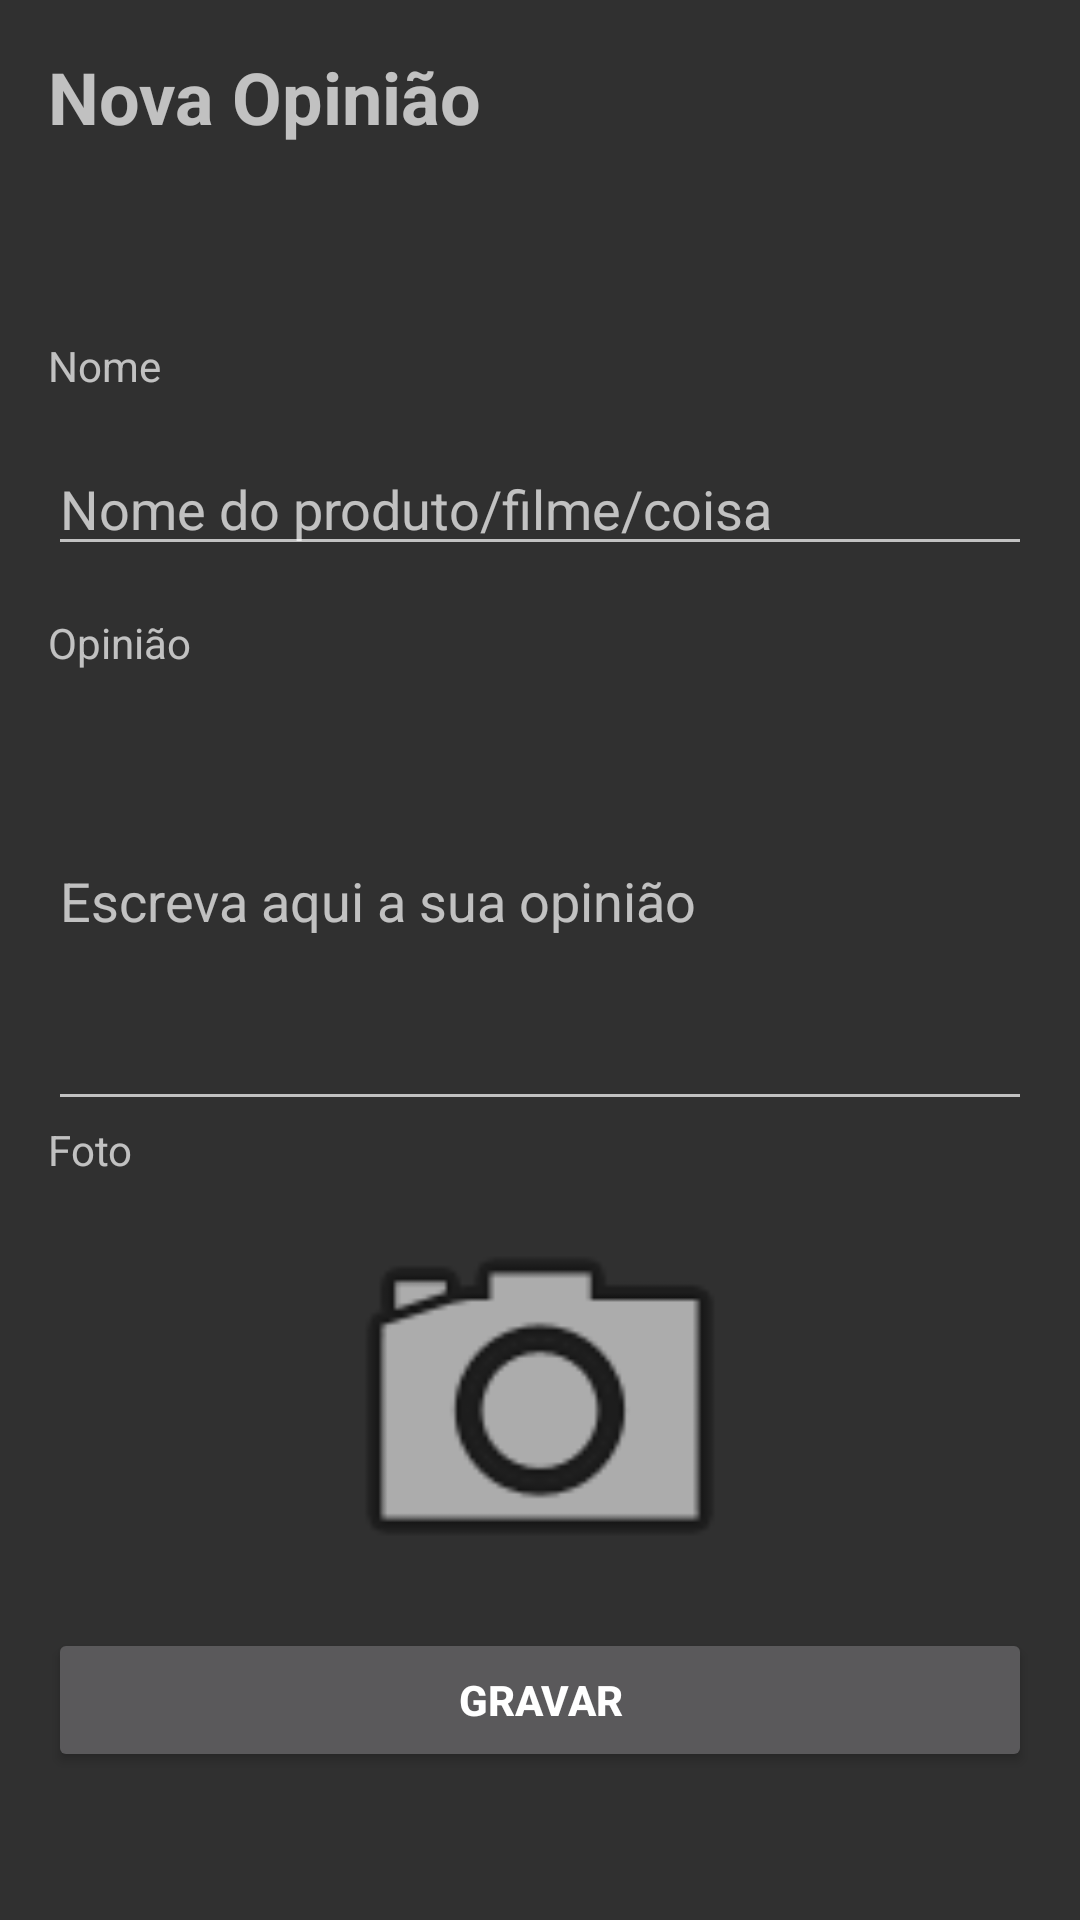

Named icons in this screenshot (1080x1920) and their centers, (x=x, y=y):
camera: (x=540, y=1397)
